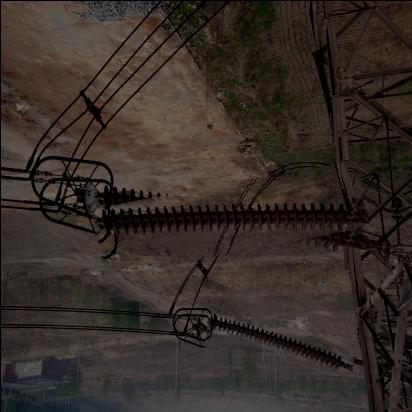insulator: (94, 170, 368, 265), (205, 318, 357, 370)
